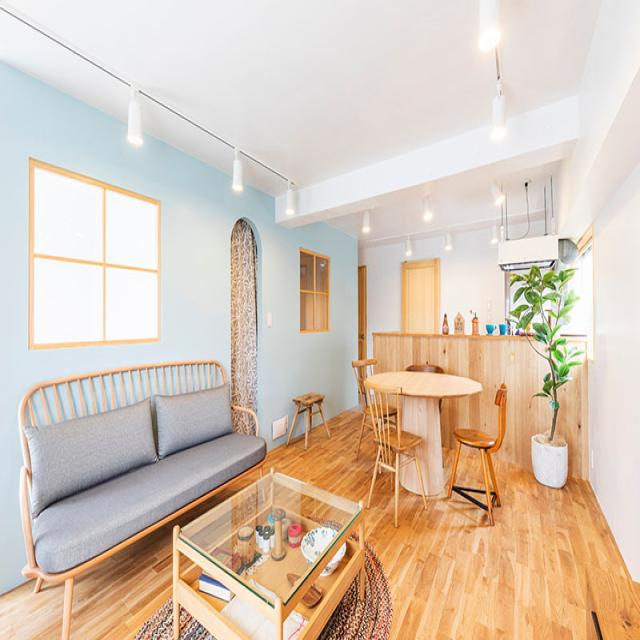vintage chair: (358, 369, 429, 539), (446, 379, 509, 525)
vintage desk: (166, 469, 374, 637)
vintage sofa: (7, 355, 270, 625)
